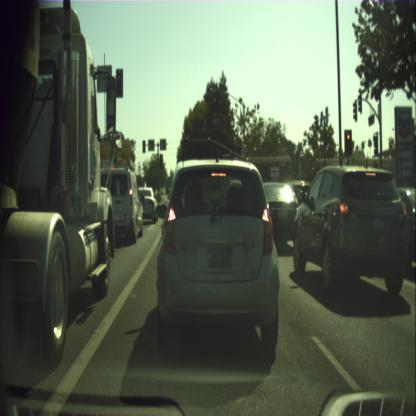Red: (344, 130, 352, 154), (207, 134, 210, 150), (186, 134, 188, 147)
off: (142, 140, 145, 152), (160, 154, 162, 166)
